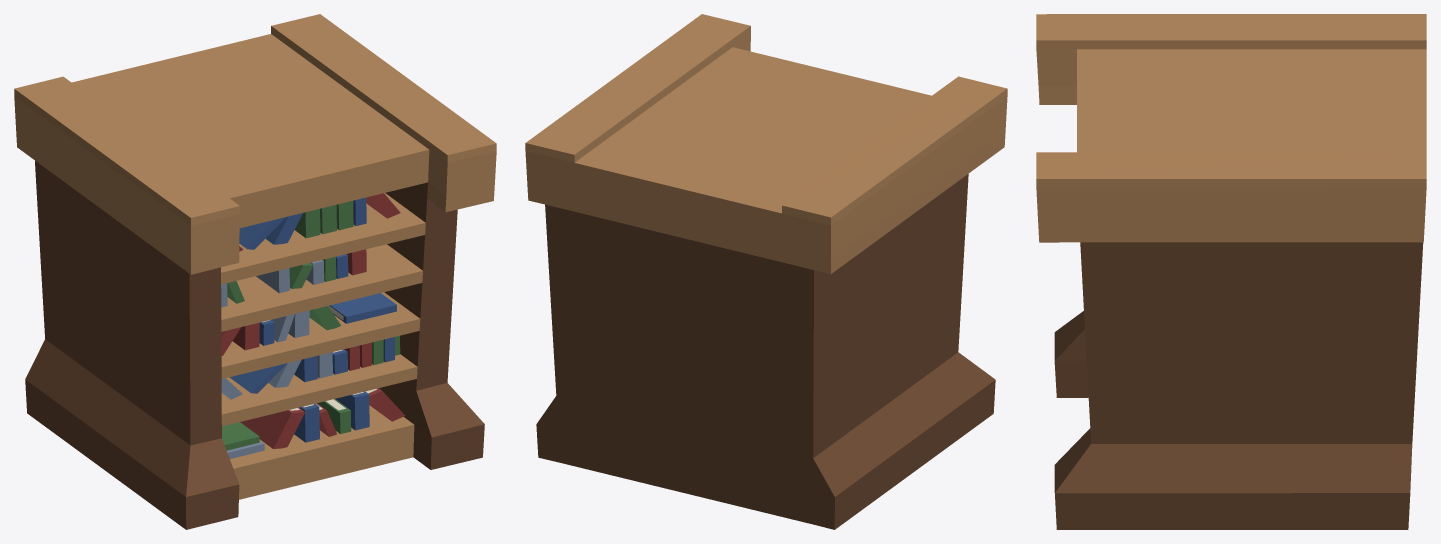
Rendered from qt-book-case-books.glb.
3 renders of one model, left to right at view 1: azimuth 30°, elevation 25°; view 2: azimuth 150°, elevation 25°; view 3: azimuth 270°, elevation 25°, orthographic. The views are drawn at different scales.
Parts seen in each view (by area): view 1: BookCaseBooks_Cube.008; view 2: BookCaseBooks_Cube.008; view 3: BookCaseBooks_Cube.008.
Boxes of the visible parts, x1=… form: BookCaseBooks_Cube.008: x1=14, y1=14, x2=496, y2=529; BookCaseBooks_Cube.008: x1=525, y1=14, x2=1007, y2=529; BookCaseBooks_Cube.008: x1=1036, y1=14, x2=1426, y2=529.
Bounding box in the file's own units: 1 × 1 × 1.
